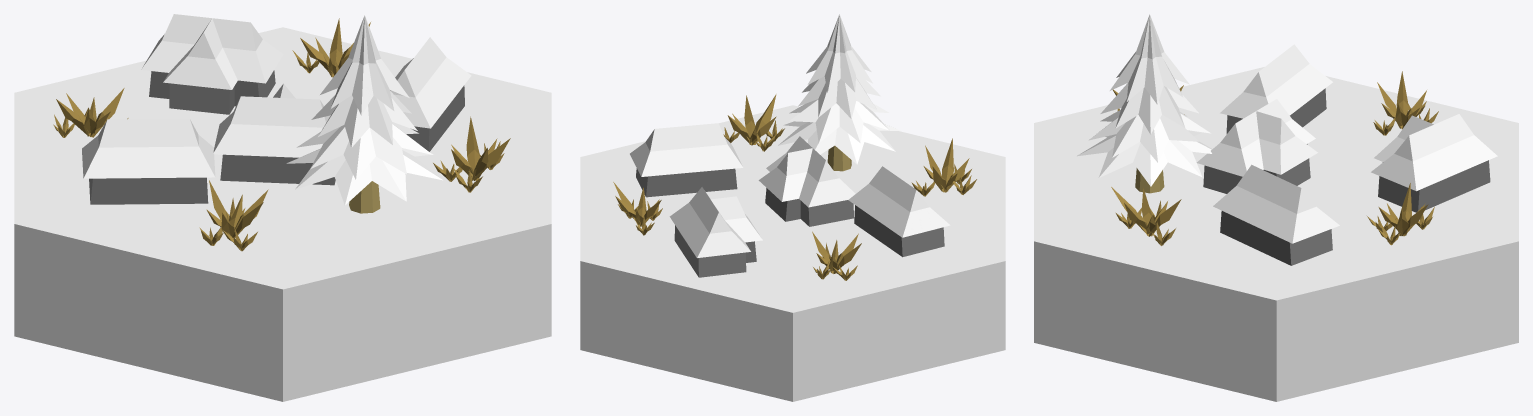
The model's file is Casas_Pinos_Altos_Nieve_4.fbx.
3 renders of one model, left to right at view 1: azimuth 30°, elevation 25°; view 2: azimuth 150°, elevation 25°; view 3: azimuth 270°, elevation 25°, orthographic. The views are drawn at different scales.
Parts seen in each view (by area): view 1: Casas_Pinos_Altos_Nieve_4; view 2: Casas_Pinos_Altos_Nieve_4; view 3: Casas_Pinos_Altos_Nieve_4.
Boxes of the visible parts, box(x1,y1,x2,y2) form: Casas_Pinos_Altos_Nieve_4: box(14, 14, 551, 401); Casas_Pinos_Altos_Nieve_4: box(580, 14, 1005, 401); Casas_Pinos_Altos_Nieve_4: box(1034, 14, 1518, 401).
Bounding box in the file's own units: 200 × 108 × 173.
